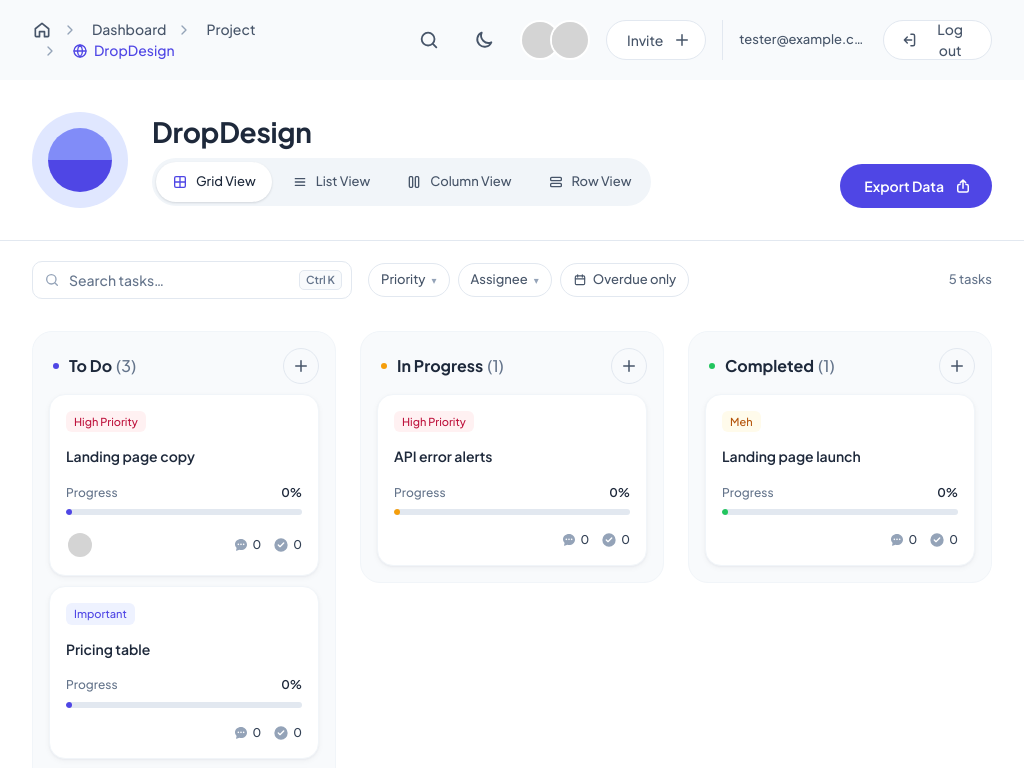
Scenario: BoardScreen views › says when nothing matches the search and filters, with a way back
Check: the element named "Board views" is shown, box [152,158,651,206]
Step 1. Type "zzz-nothing" into the search field → (192, 280), box [32,261,352,299]
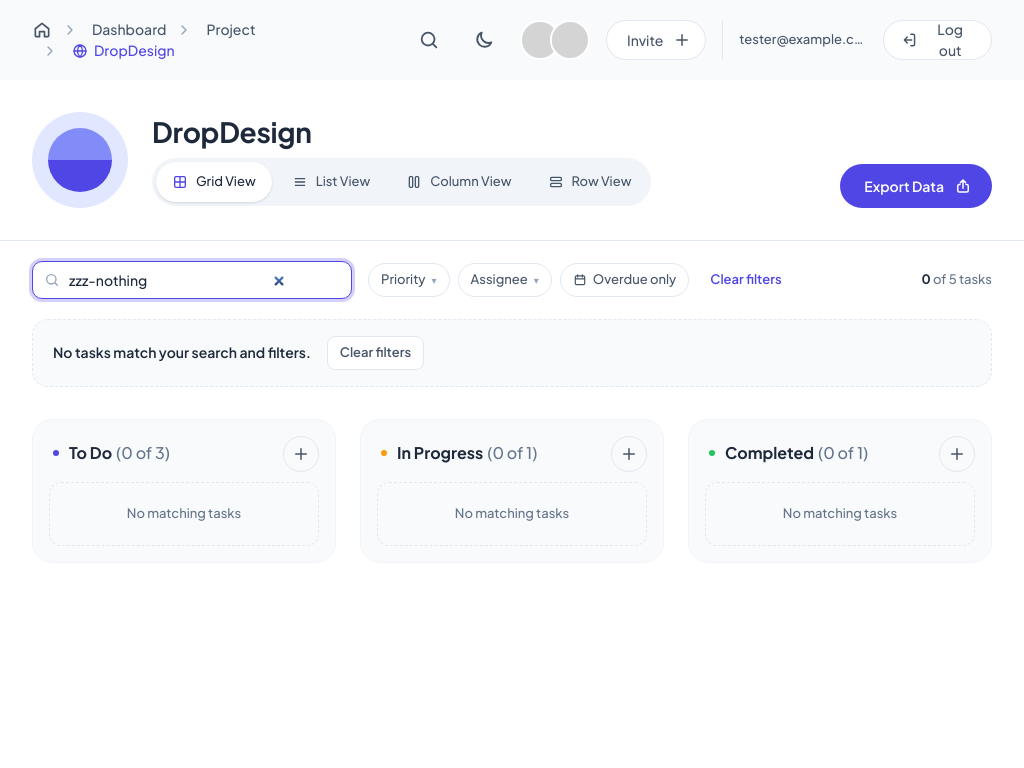
Check: the text "No tasks match your search and filters." is shown, box [53,343,311,361]
The board-level "Clear filters" (the filter bar has one too)
Step 2. Click the button "Clear filters" next to "No tasks match your search and filters." → (375, 353), box [327,336,424,370]
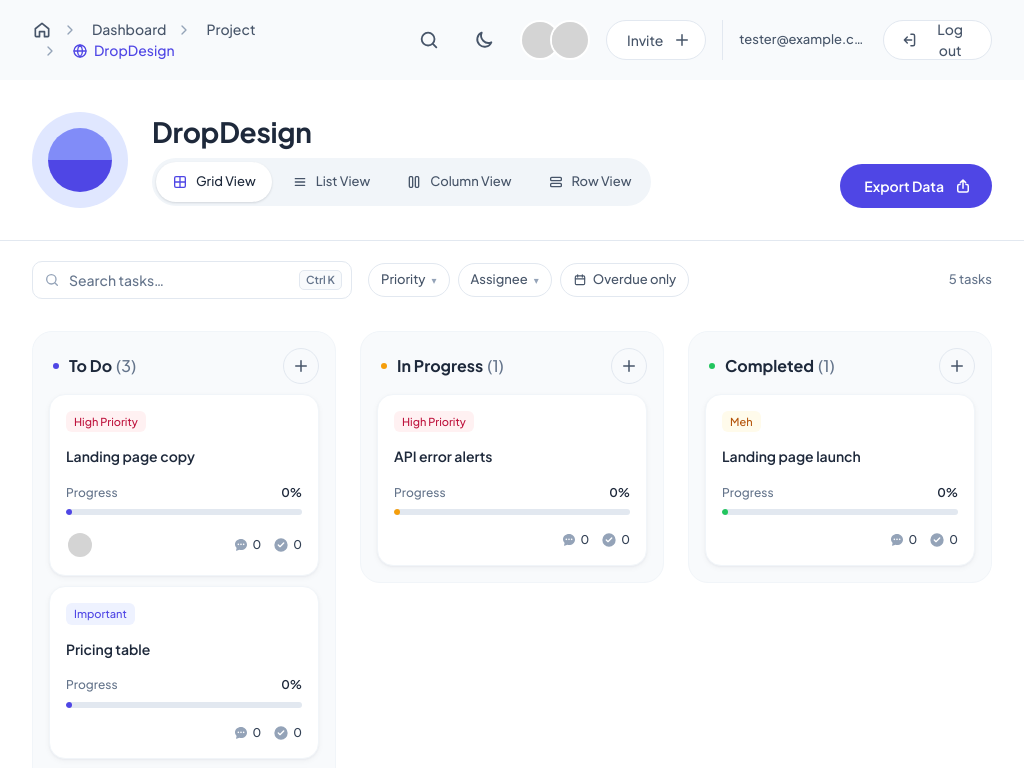
Check: the search field is empty, box [32,261,352,299]
Check: the text "No tasks match your search and filters." is gone
